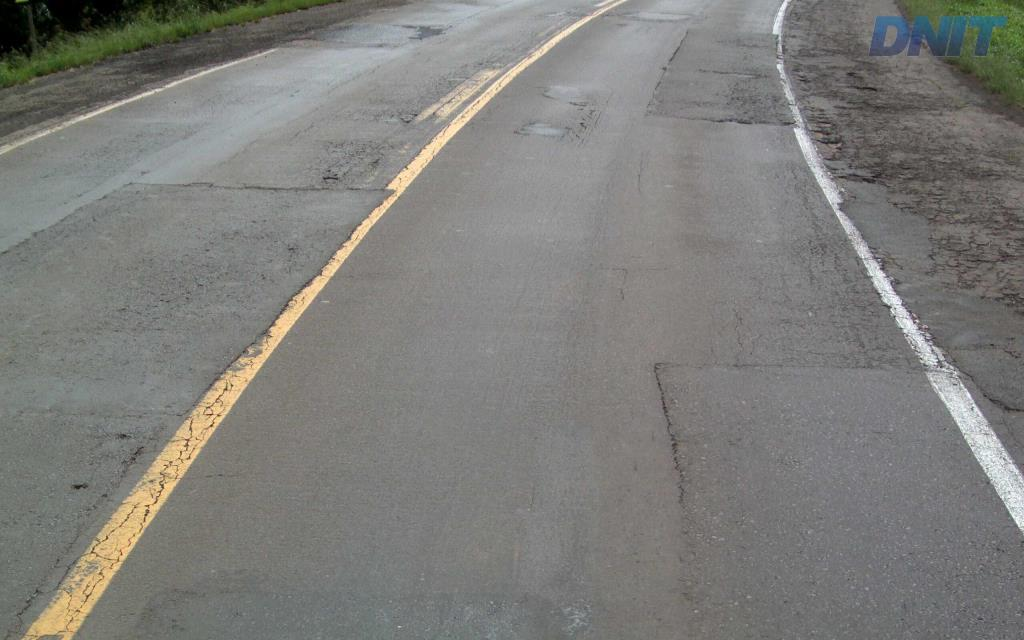crack: (653, 362, 688, 504)
